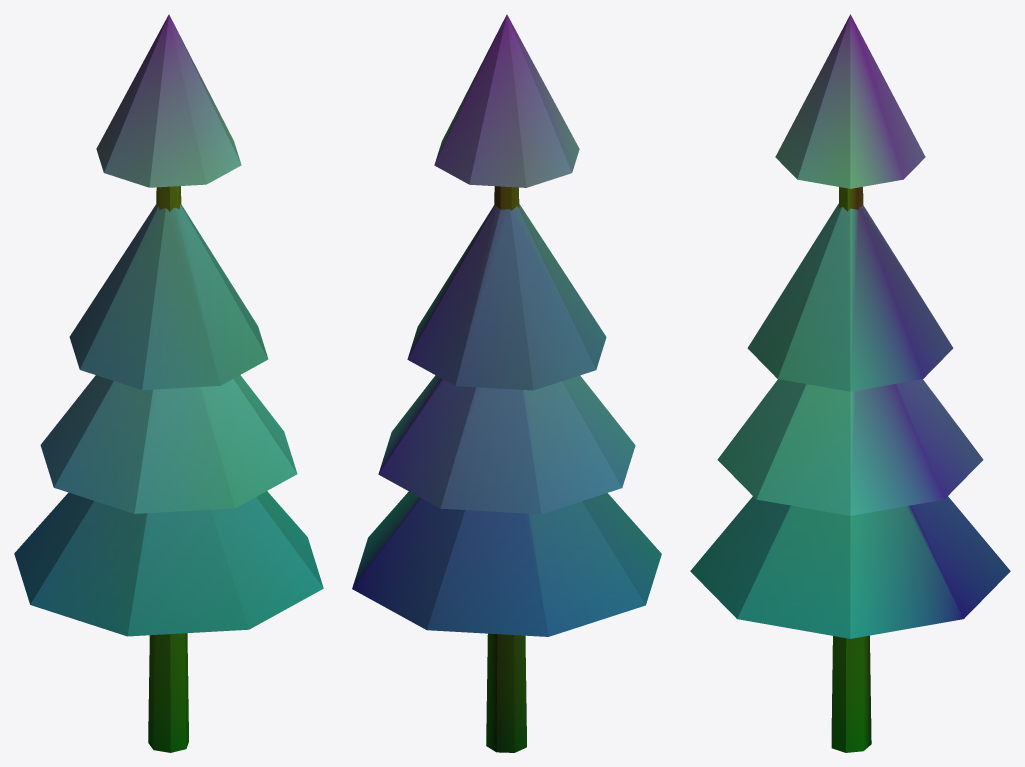
File: conifer_02.glb
3 renders of one model, left to right at view 1: azimuth 30°, elevation 25°; view 2: azimuth 150°, elevation 25°; view 3: azimuth 270°, elevation 25°, orthographic.
Visible parts, largest first — view 1: conifer_02; view 2: conifer_02; view 3: conifer_02.
Part boxes in pixels (bbox=[...]): conifer_02: bbox=[14, 14, 323, 752]; conifer_02: bbox=[352, 14, 661, 752]; conifer_02: bbox=[690, 14, 1010, 752].
Size of the model in its own units: 2.13 by 5.36 by 2.13.
